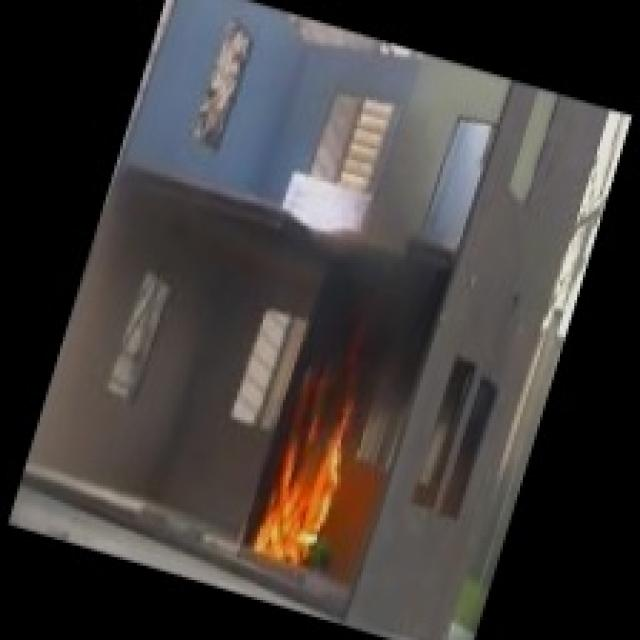fire: (241, 346, 393, 586)
